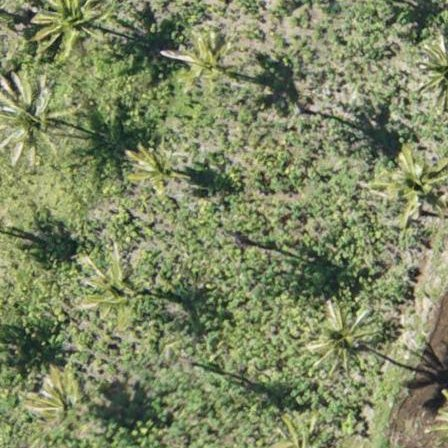palm_tree: (1, 72, 68, 165), (29, 1, 114, 65), (375, 150, 448, 222), (24, 365, 94, 436), (306, 303, 372, 364), (80, 257, 143, 320), (169, 31, 231, 91), (125, 139, 175, 195)
